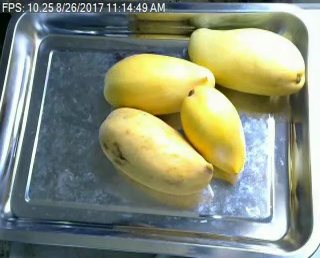Mango: (99, 105, 213, 194), (189, 25, 305, 94), (101, 54, 214, 112), (179, 86, 245, 174)
